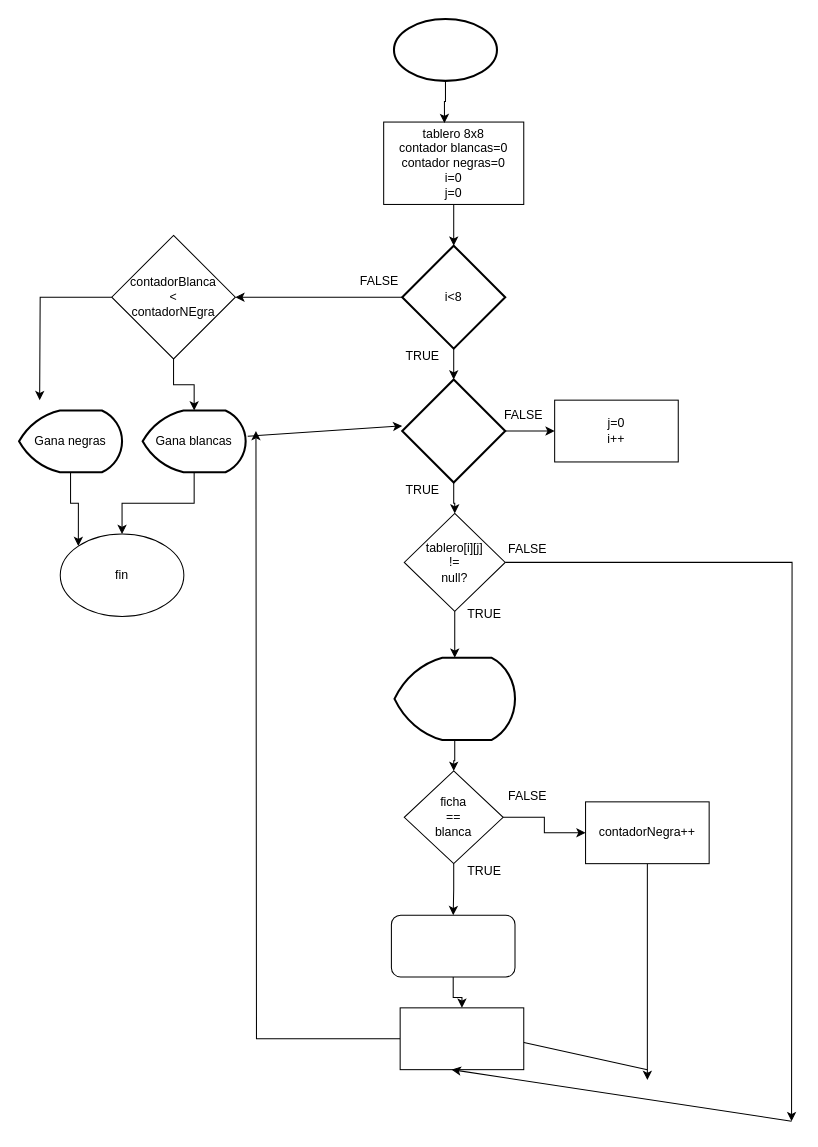
Image size: 818x1147. Some labels were removed from this diagram. The box of each missing label's shape, as (x1, y1, x2, y2) in pixels:
"Ocupada" tablero[i][j]: (393, 656, 516, 741)
contadorBlanca++: (390, 914, 515, 977)
Inicio: (392, 18, 497, 81)
j++: (399, 1007, 524, 1070)
j<8: (401, 378, 506, 483)
